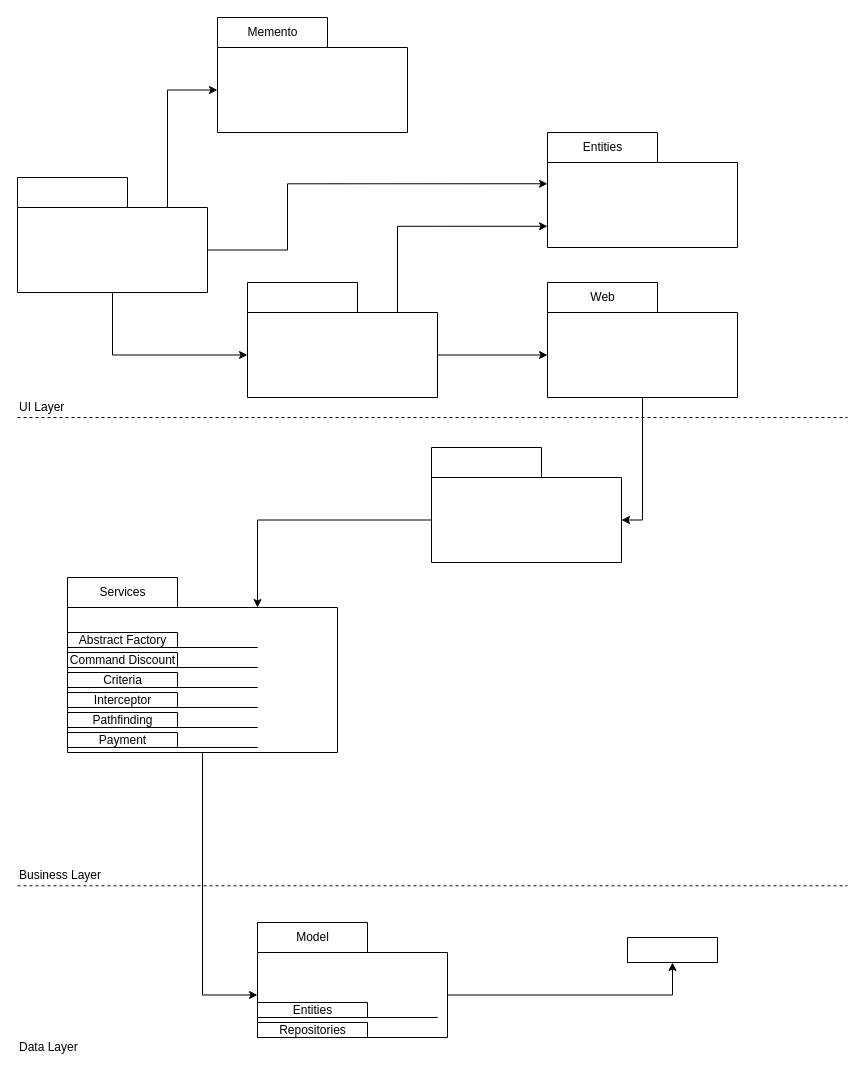
This 866x1075 diagram has some shape labels left out. Each missing label, with the centre of its shape:
"Controller" goes at (x=526, y=504).
"Database" goes at (x=672, y=949).
"Repository" goes at (x=342, y=340).
"UIMain" goes at (x=112, y=234).
